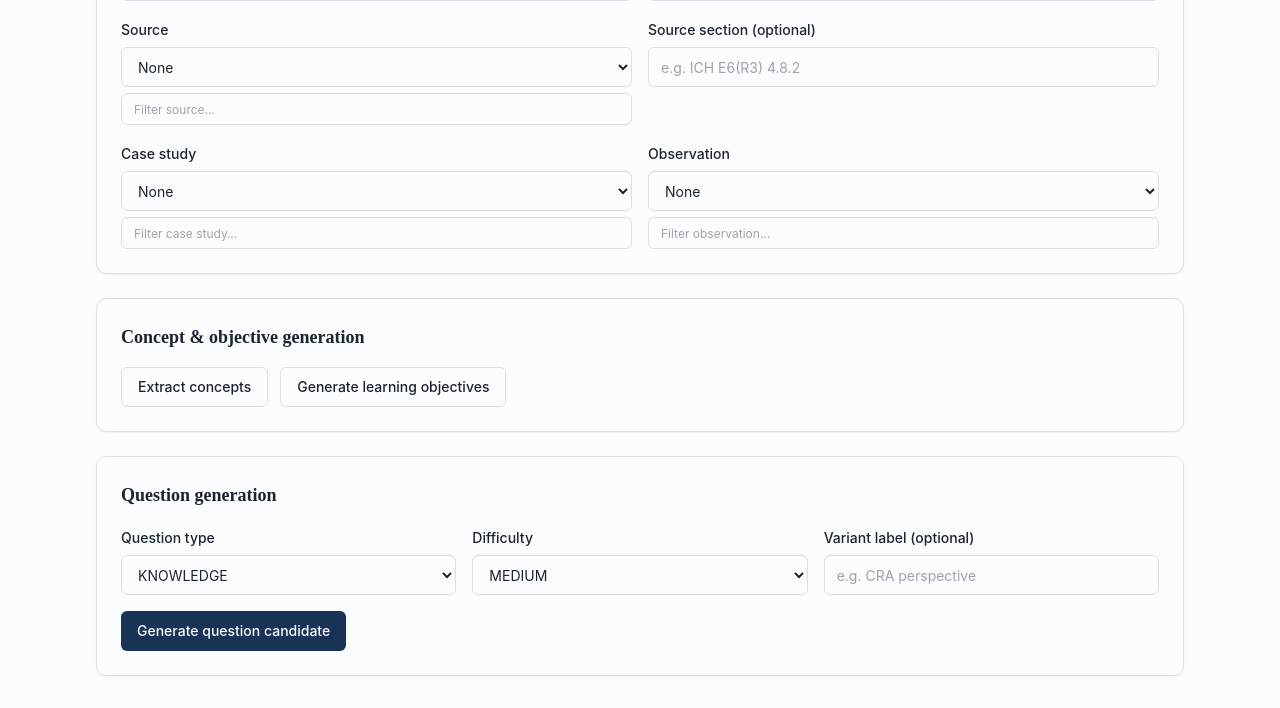
Test: AI workspace page › renders extracted concepts as returned by the AI service
The image size is (1280, 708).
(page scrolled)
Click the button "Extract concepts".
click(195, 387)  # box [121,367,268,407]
(page scrolled)
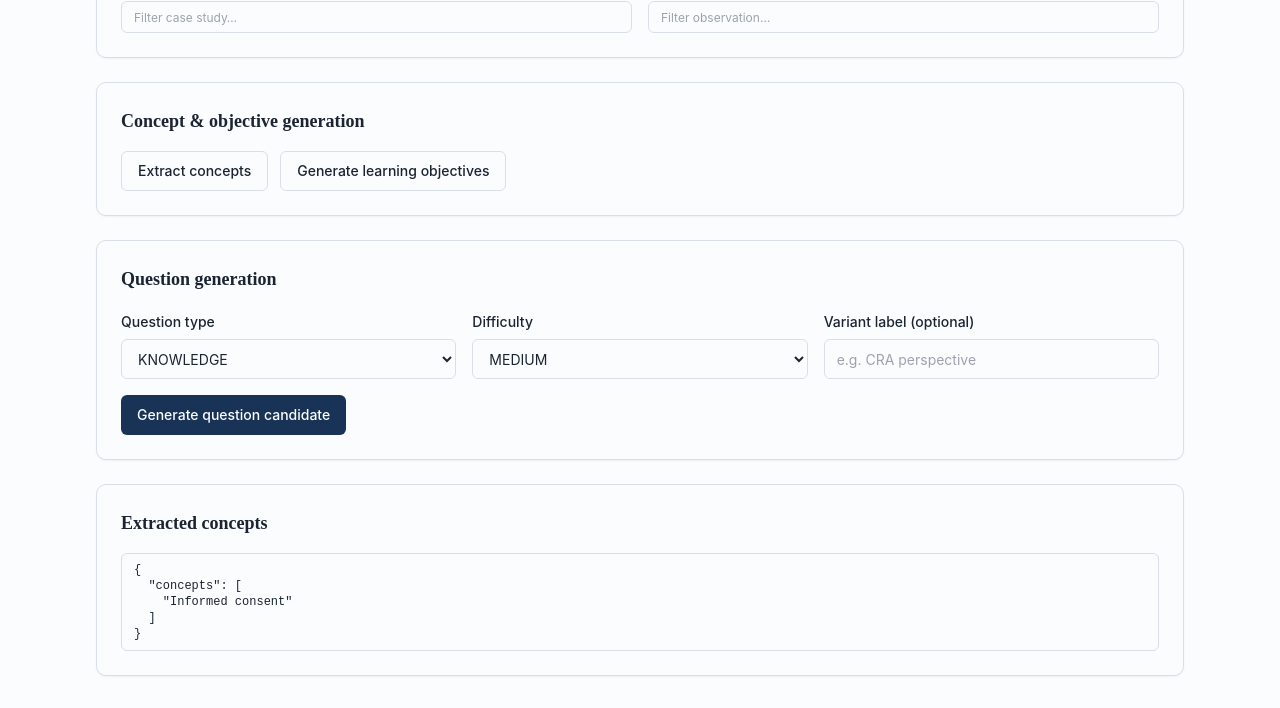
Check: the heading "Extracted concepts" is shown, box [121,513,268,533]
Check: the text "{ \"concepts\": [ \"Informed consent\" ] }" is shown, box [121,553,1159,651]
